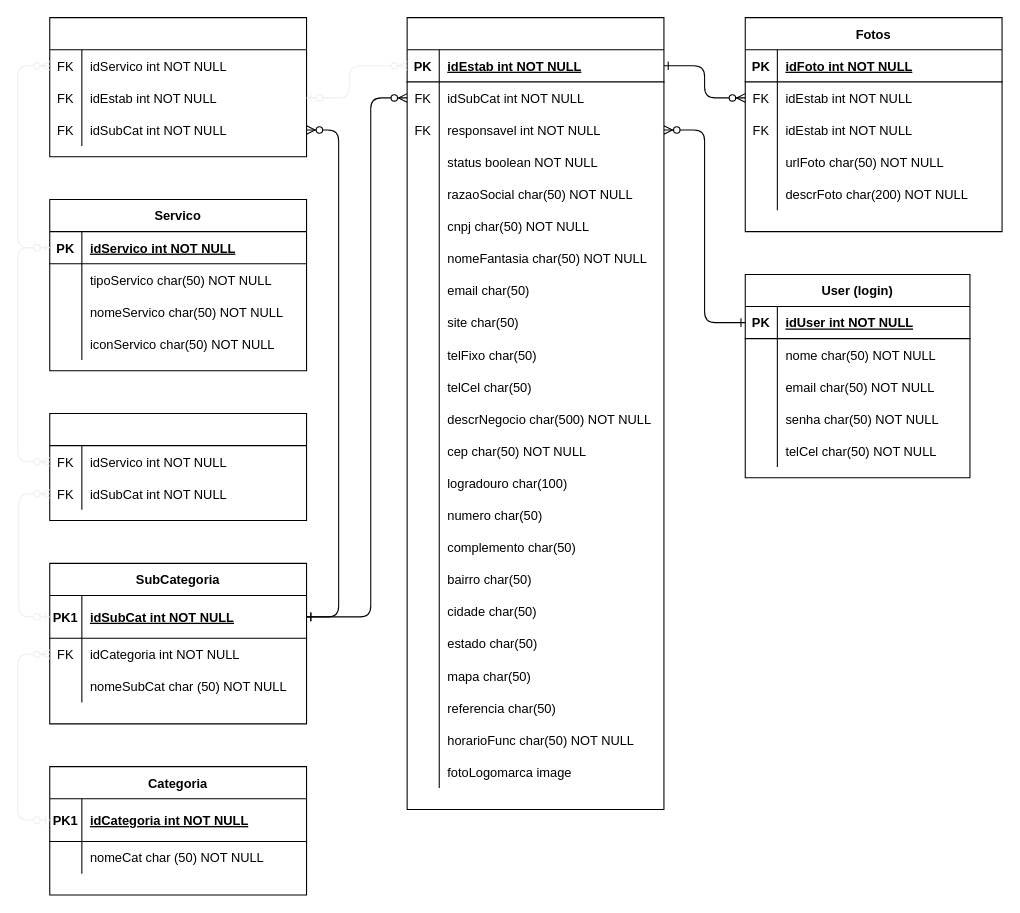
The diagram is 1020 pixels wide and 913 high, and some of its shapes have lost their labels. Here are the shapes that lost their labels. From the top down, the box of each, then its label:
(49, 17, 307, 157): Servicos_Cat_Estab
(406, 17, 664, 809): Estabelecimento
(49, 412, 307, 521): Servicos_Categoria
